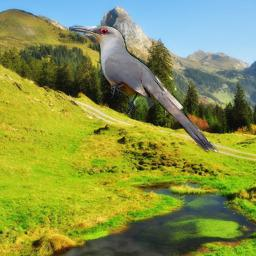Cuckoo: (69, 24, 219, 156)
